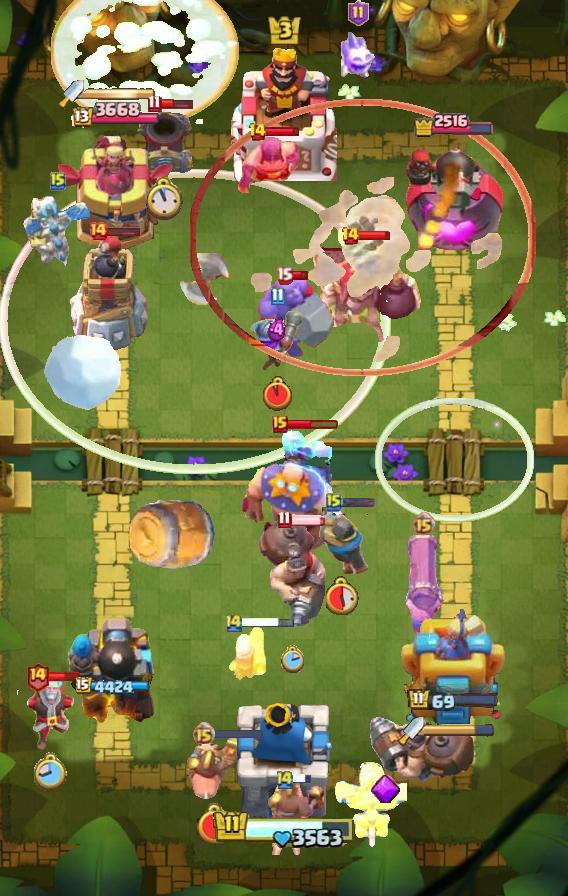archer-queen: (254, 272, 336, 360)
bar: (52, 132, 176, 256), (401, 601, 505, 731)
battle-healer: (400, 535, 446, 639)
bomb-tower: (249, 309, 305, 373)
clock: (212, 809, 356, 851)
dirt: (126, 498, 218, 572)
electro-giant: (303, 238, 423, 348)
electro-spirit: (267, 317, 287, 343)
elixir: (195, 803, 235, 847), (145, 177, 183, 221), (34, 751, 68, 792), (326, 577, 360, 616), (264, 377, 293, 411), (280, 645, 304, 673)
emote: (242, 615, 296, 628), (212, 727, 264, 740), (286, 418, 339, 430), (289, 514, 327, 526), (105, 225, 141, 237), (159, 98, 193, 110), (264, 126, 301, 137), (340, 497, 376, 508), (357, 231, 391, 242), (47, 670, 81, 681), (292, 773, 312, 785), (290, 271, 310, 282)
firecracker: (318, 508, 371, 577)
freeze: (268, 775, 326, 855), (186, 732, 244, 802)
king-tower: (231, 45, 337, 181), (235, 703, 333, 826)
king-tower-bar: (84, 87, 156, 101), (424, 724, 494, 738)
little-prince: (238, 424, 344, 552)
mini-pekka: (331, 761, 407, 851), (22, 191, 94, 271)
mirror: (338, 29, 378, 81)
monk: (237, 137, 301, 197)
mortar: (11, 673, 91, 751)
musketeer: (133, 109, 195, 177)
phoenix-big: (51, 0, 239, 124)
royal-ghost: (190, 98, 536, 378)
royal-giant: (176, 253, 242, 305)
selected: (69, 102, 159, 130), (407, 687, 499, 713), (412, 111, 494, 138), (75, 677, 152, 697)
skeleton-king-skill: (370, 775, 400, 803)
text: (25, 660, 50, 691), (348, 0, 369, 26), (413, 512, 436, 535), (193, 722, 216, 745), (224, 611, 244, 632), (275, 770, 295, 791), (88, 221, 108, 241), (248, 122, 267, 142), (340, 226, 359, 246), (275, 267, 293, 286), (50, 171, 66, 191), (326, 492, 342, 512), (272, 415, 288, 433), (147, 94, 162, 113), (271, 287, 286, 305), (277, 511, 291, 529)
tombstone: (226, 624, 268, 682)
tower-bar: (404, 138, 505, 256), (67, 611, 161, 731)
wall-breaker: (41, 333, 123, 412)
wizard: (366, 714, 478, 784), (257, 516, 327, 626)
zappy: (66, 234, 152, 354)
